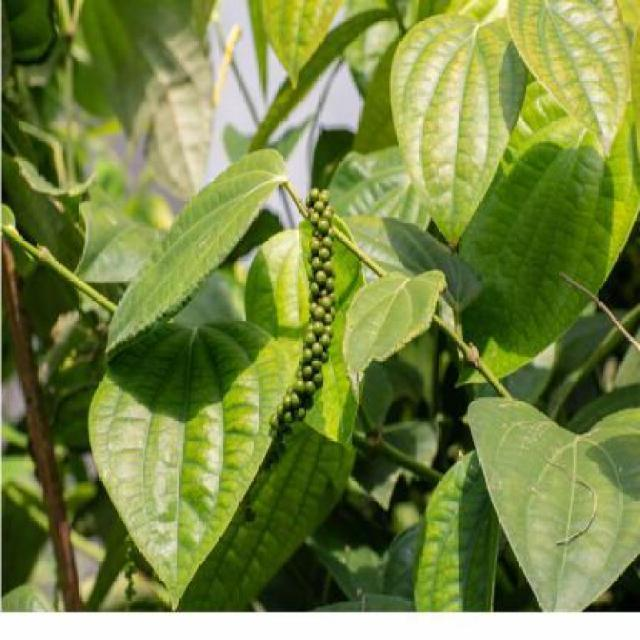UNRIPE: (257, 188, 355, 449)
